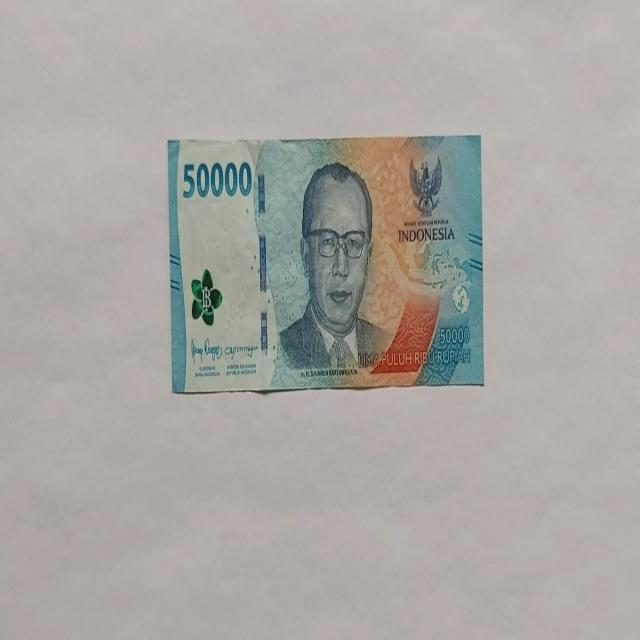lima puluh ribu rupiah: (167, 133, 483, 394), (272, 160, 392, 380)
